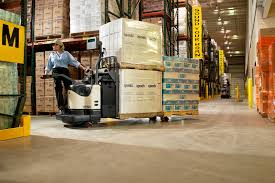Pallet Jack: (40, 53, 199, 127)
